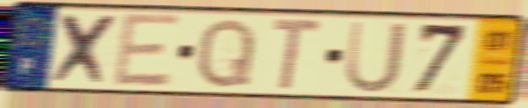7: (408, 21, 471, 96)
E: (111, 10, 184, 90)
Q: (193, 16, 259, 91)
T: (269, 15, 325, 94)
U: (342, 18, 409, 96)
X: (48, 11, 124, 88)
